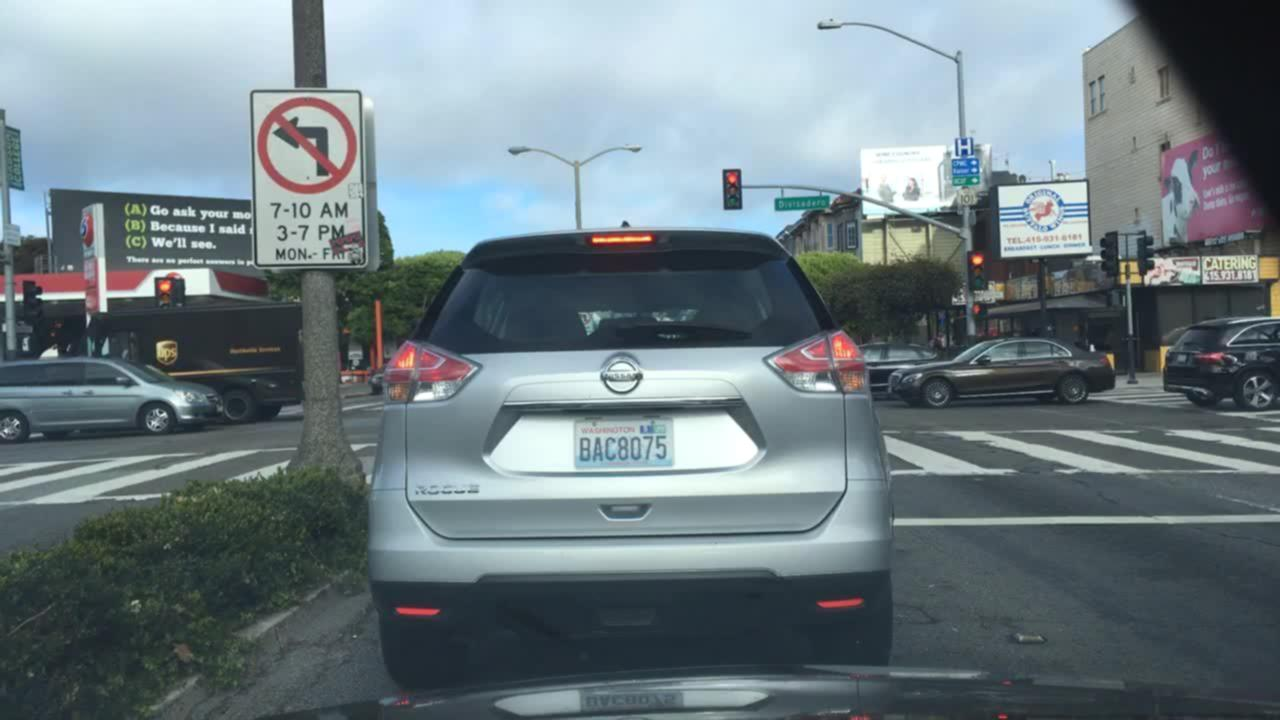Nissan: (593, 340, 658, 400)
